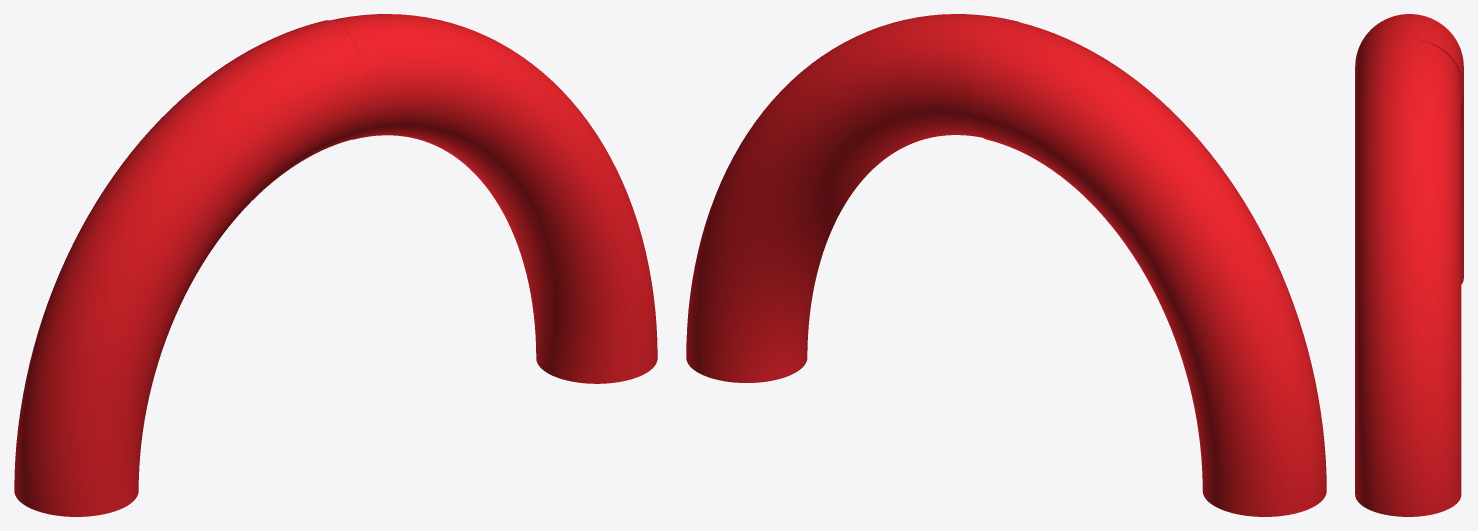
File: FinishPoint.fbx
3 views of the same model, side by side, from view 1: azimuth 30°, elevation 25°; view 2: azimuth 150°, elevation 25°; view 3: azimuth 270°, elevation 25° (orthographic). The views are drawn at different scales.
Visible parts, largest first — view 1: root (×2); view 2: root (×2); view 3: root (×2).
Boxes of the visible parts, box(x1,y1,x2,y2) form: root (×2): box(14, 14, 657, 516); root (×2): box(686, 14, 1326, 516); root (×2): box(1355, 14, 1463, 516).
Bounding box in the file's own units: 0.4173 × 0.2559 × 0.0718.
